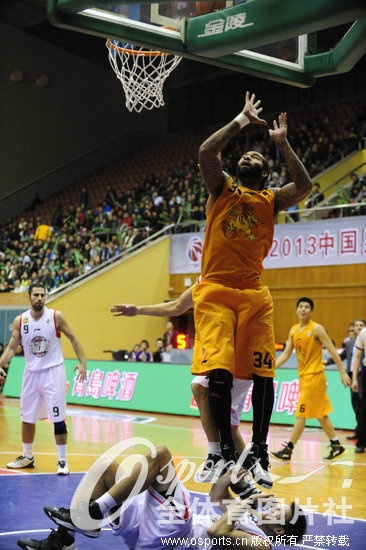falling: (17, 436, 309, 550)
